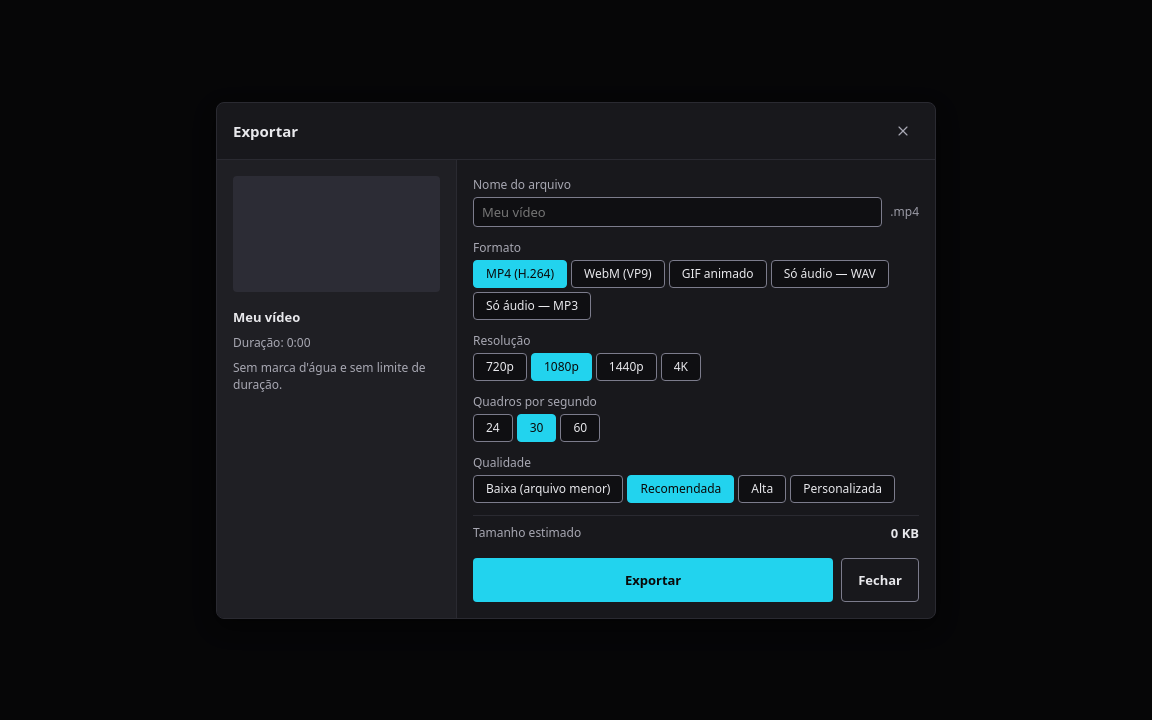
Scenario: ExportDialog › ao escolher WAV esconde a resolução
Check: the element named "Resolução" is shown, box [473, 352, 701, 380]
What coordinates should you click on to do the following:
click the radio button labelled "Só áudio — WAV"
I would click on:
 (830, 274)
Its box is [771, 260, 889, 288].
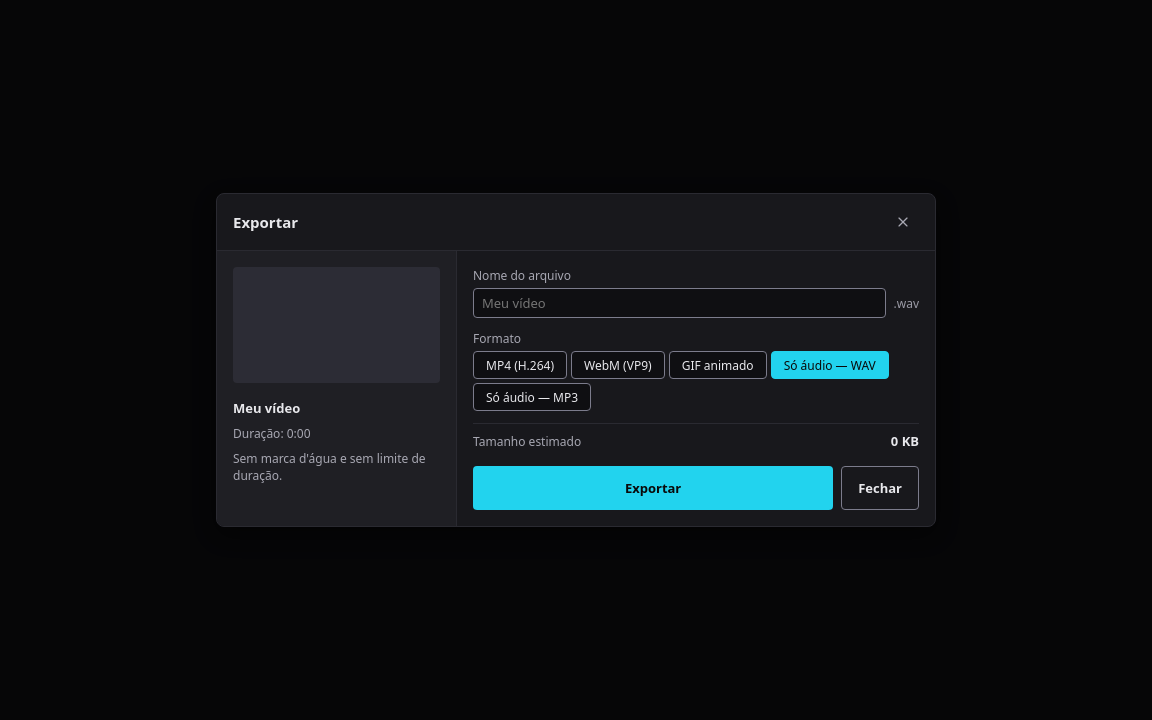
Check: the text "Resolução" is gone
